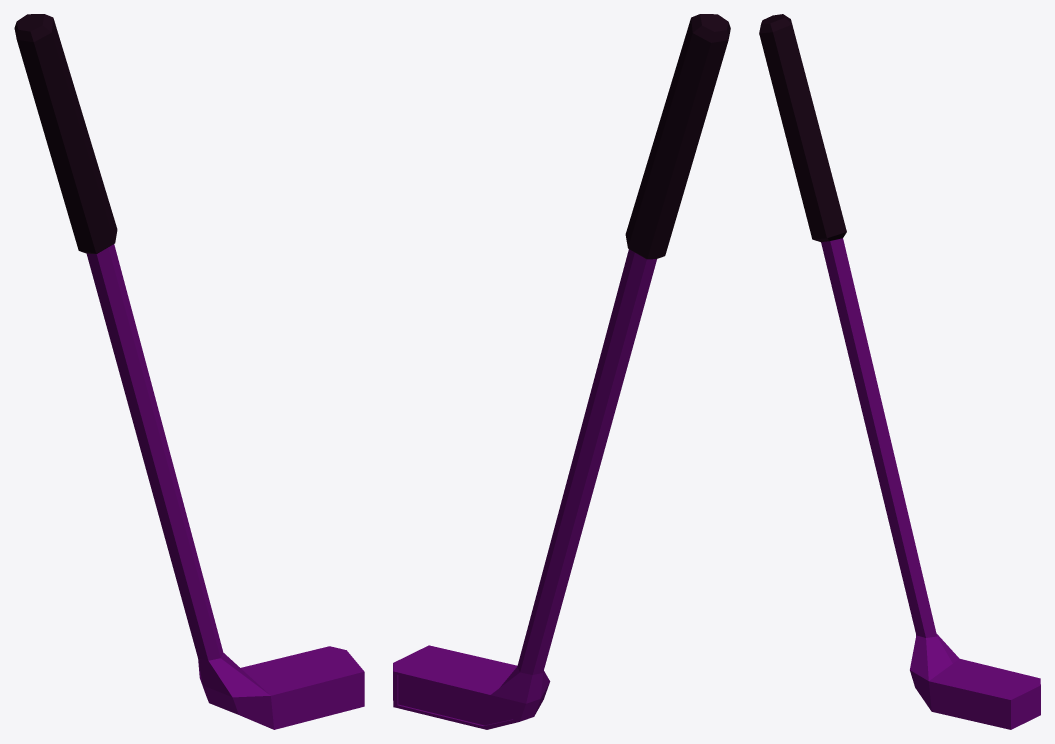
Rendered from GolfClub_01.fbx.
3 views of the same model, side by side, from view 1: azimuth 30°, elevation 25°; view 2: azimuth 150°, elevation 25°; view 3: azimuth 330°, elevation 25° (orthographic). The views are drawn at different scales.
Parts seen in each view (by area): view 1: GolfClub_01; view 2: GolfClub_01; view 3: GolfClub_01.
Boxes of the visible parts, x1,y1,x2,y2 form: GolfClub_01: (14,14,364,729); GolfClub_01: (393,14,730,729); GolfClub_01: (759,14,1040,729).
Size of the model in its own units: 4.77 by 10.31 by 0.9861.
